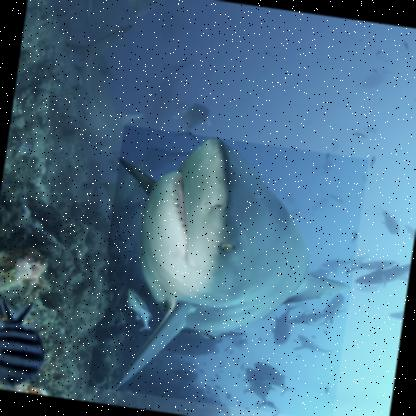bulldog-shark: (86, 122, 369, 415)
